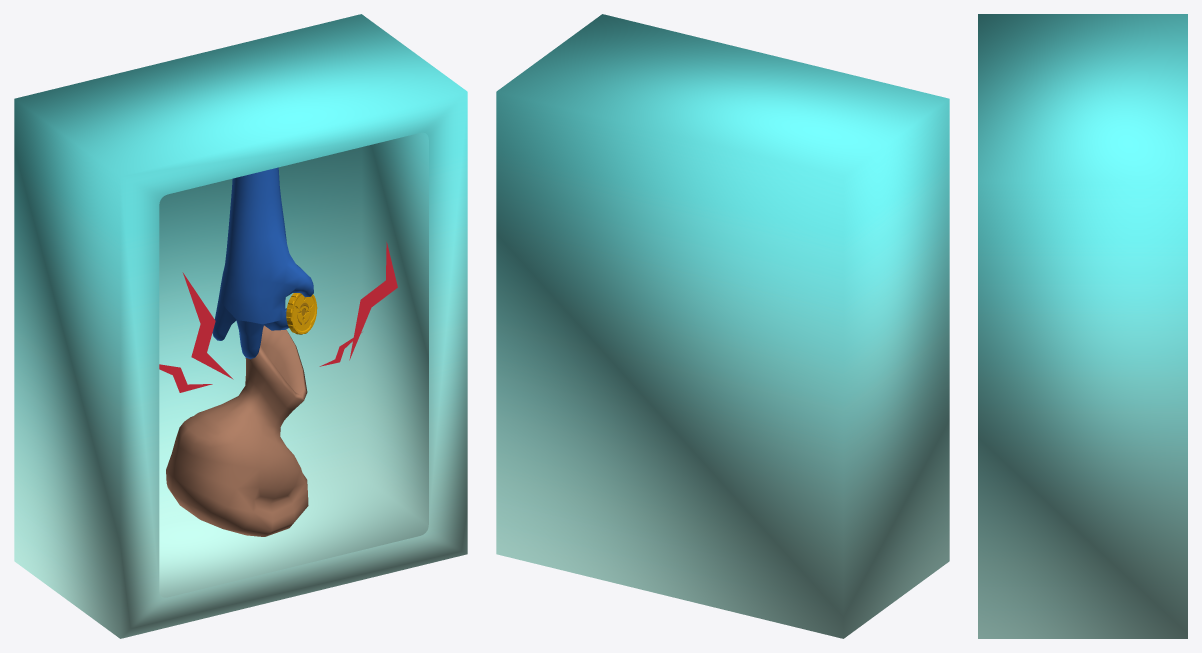
File: 5_Steal.glb
The picture shows the model from 3 angles, left to right: view 1: azimuth 30°, elevation 25°; view 2: azimuth 150°, elevation 25°; view 3: azimuth 270°, elevation 25°; orthographic projection.
Visible parts, largest first — view 1: 5_Steal_bg, 5_Steal; view 2: 5_Steal_bg; view 3: 5_Steal_bg.
Part boxes in pixels (x1,y1,x2,y2): 5_Steal_bg: (14,14,467,638); 5_Steal: (159,167,397,536); 5_Steal_bg: (496,14,949,638); 5_Steal_bg: (978,14,1187,638).
Bounding box in the file's own units: 2.76 × 3.51 × 1.46.
2 materials, 2 textured.
